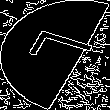L_SE: (14, 31, 96, 79)
